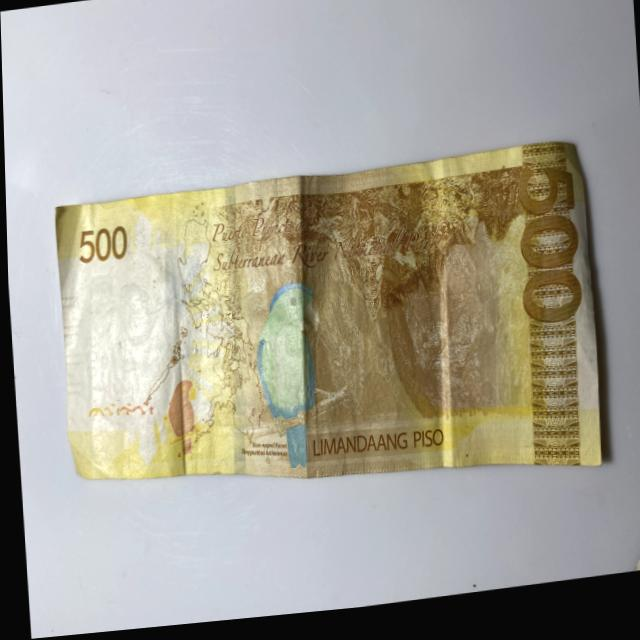500_big_parrot: (246, 291, 333, 478)
500_parrot_watermark: (160, 380, 201, 467)
value_watermark: (77, 329, 97, 382)
